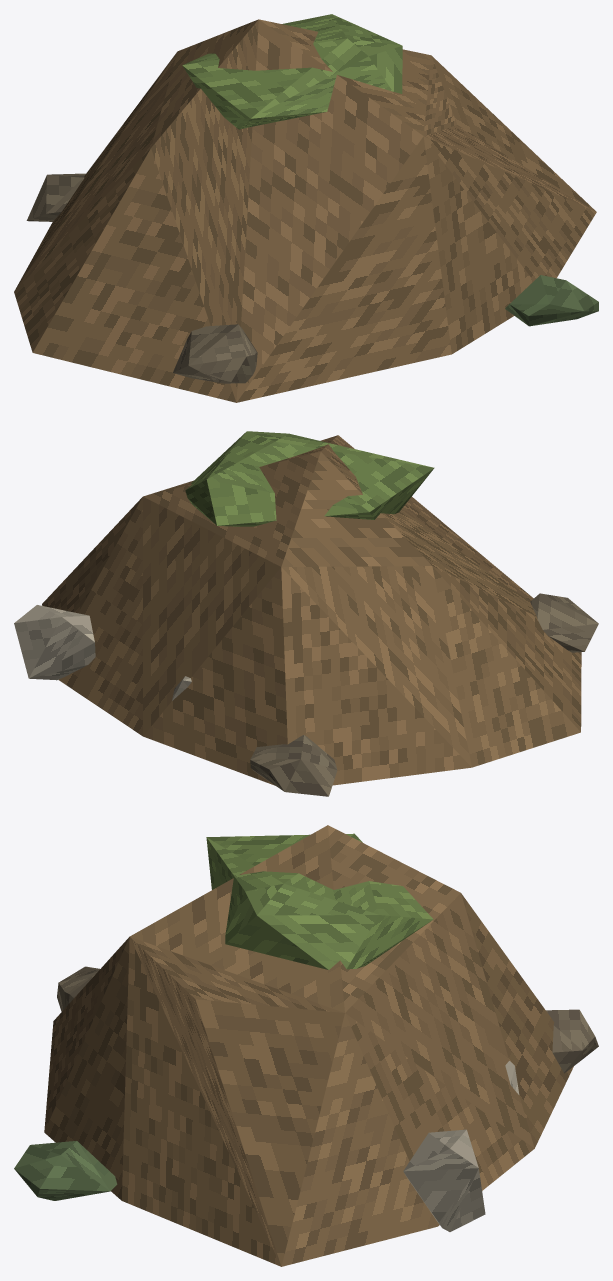
Rendered from f_rubble_landfill.glb.
The picture shows the model from 3 angles, top to bottom: view 1: azimuth 30°, elevation 25°; view 2: azimuth 150°, elevation 25°; view 3: azimuth 270°, elevation 25°; orthographic projection. The views are drawn at different scales.
Visible parts, largest first — view 1: block_trash-and-dirt, block_grass-cap, block_debris-1, block_debris-3, block_debris-7; view 2: block_trash-and-dirt, block_grass-cap, block_debris-5, block_debris-7, block_debris-1; view 3: block_trash-and-dirt, block_grass-cap, block_debris-5, block_debris-3, block_debris-7, block_debris-1.
Boxes of the visible parts, x1,y1,x2,y2 form: block_trash-and-dirt: (14,19,596,402); block_grass-cap: (182,14,402,129); block_debris-1: (173,324,257,383); block_debris-3: (505,275,598,326); block_debris-7: (26,173,85,221); block_trash-and-dirt: (42,435,581,785); block_grass-cap: (185,431,434,526); block_debris-5: (14,605,95,680); block_debris-7: (250,735,337,796); block_debris-1: (530,593,598,652); block_trash-and-dirt: (44,825,573,1266); block_grass-cap: (206,833,433,969); block_debris-5: (403,1129,485,1231); block_debris-3: (14,1141,117,1200); block_debris-7: (546,1009,598,1073); block_debris-1: (57,966,99,1011).
Size of the model in its own units: 0.9344 by 0.4 by 0.7716.
Materials: 1 (1 with a texture image).
